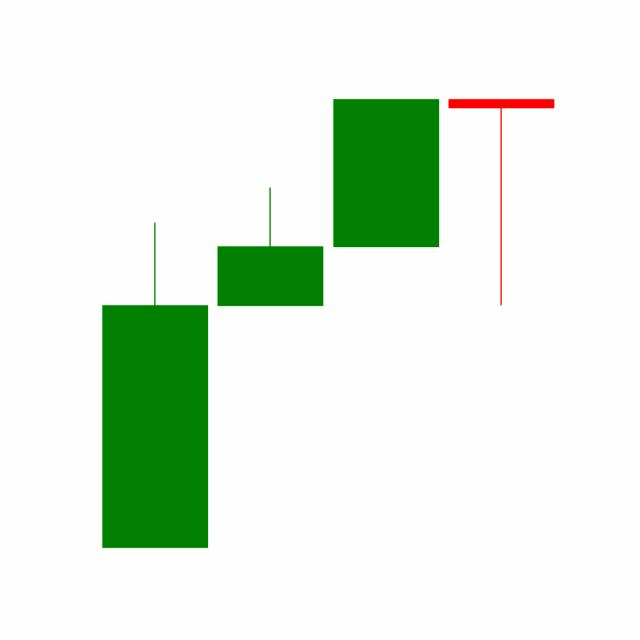Hammer: (443, 96, 559, 308)
